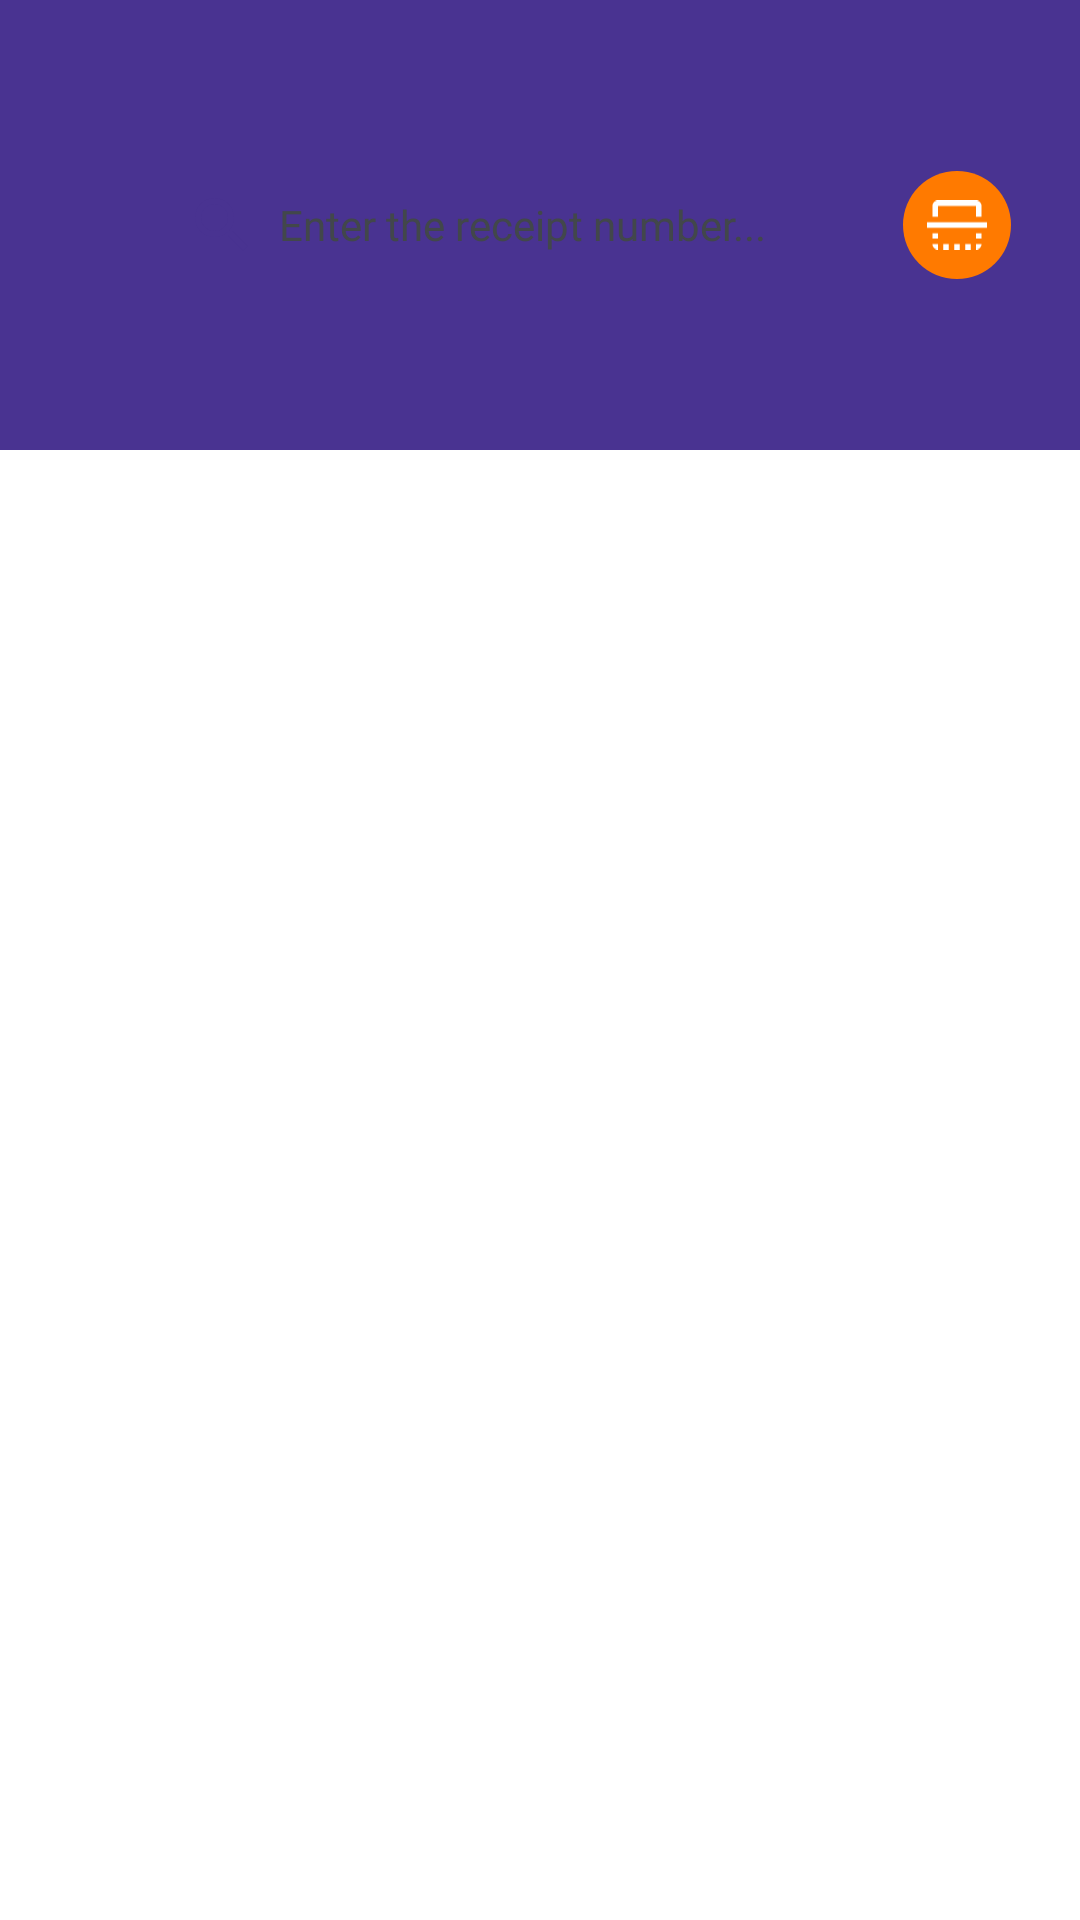

Icon bounding boxes for this 1080 × 1920 phone screenshot, format Rect(x1, y1, x2, y2):
scanner: Rect(903, 171, 1011, 279)
